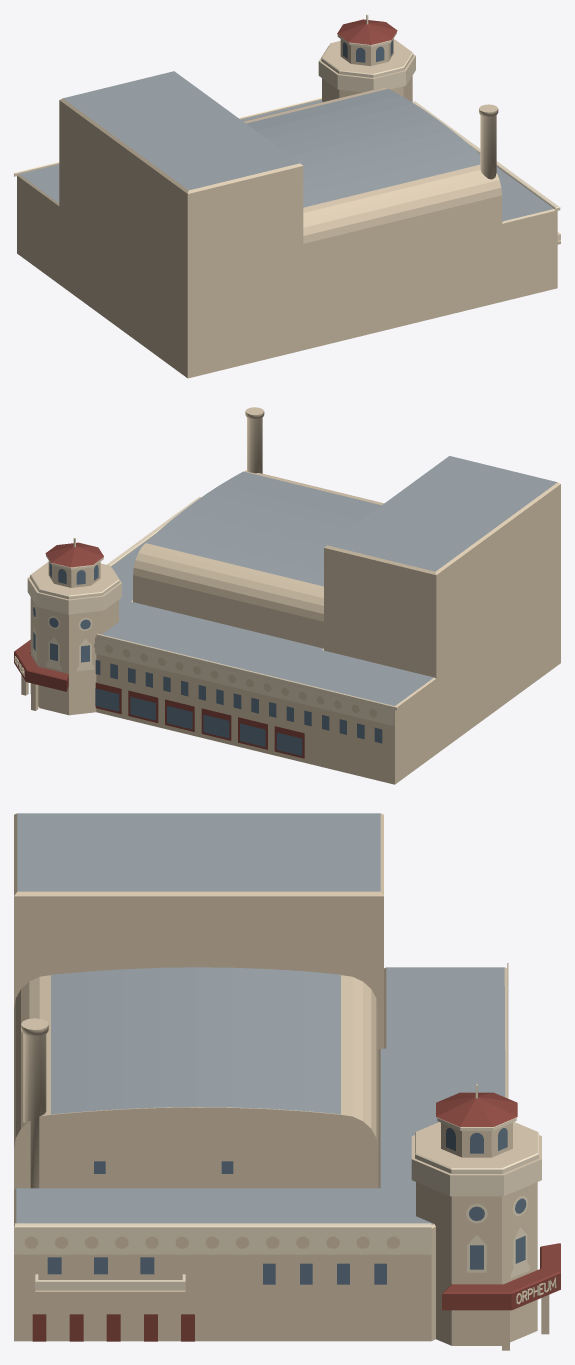
Rendered from phx-orpheum-theatre.glb.
3 views of the same model, one above another, from view 1: azimuth 30°, elevation 25°; view 2: azimuth 150°, elevation 25°; view 3: azimuth 270°, elevation 25° (orthographic). The views are drawn at different scales.
Parts seen in each view (by area): view 1: Orpheum Theatre; view 2: Orpheum Theatre; view 3: Orpheum Theatre.
Boxes of the visible parts, x1,y1,x2,y2 form: Orpheum Theatre: [14, 14, 560, 378]; Orpheum Theatre: [14, 407, 560, 784]; Orpheum Theatre: [14, 813, 560, 1350].
Bounding box in the file's own units: 56.4 × 26 × 47.15.
